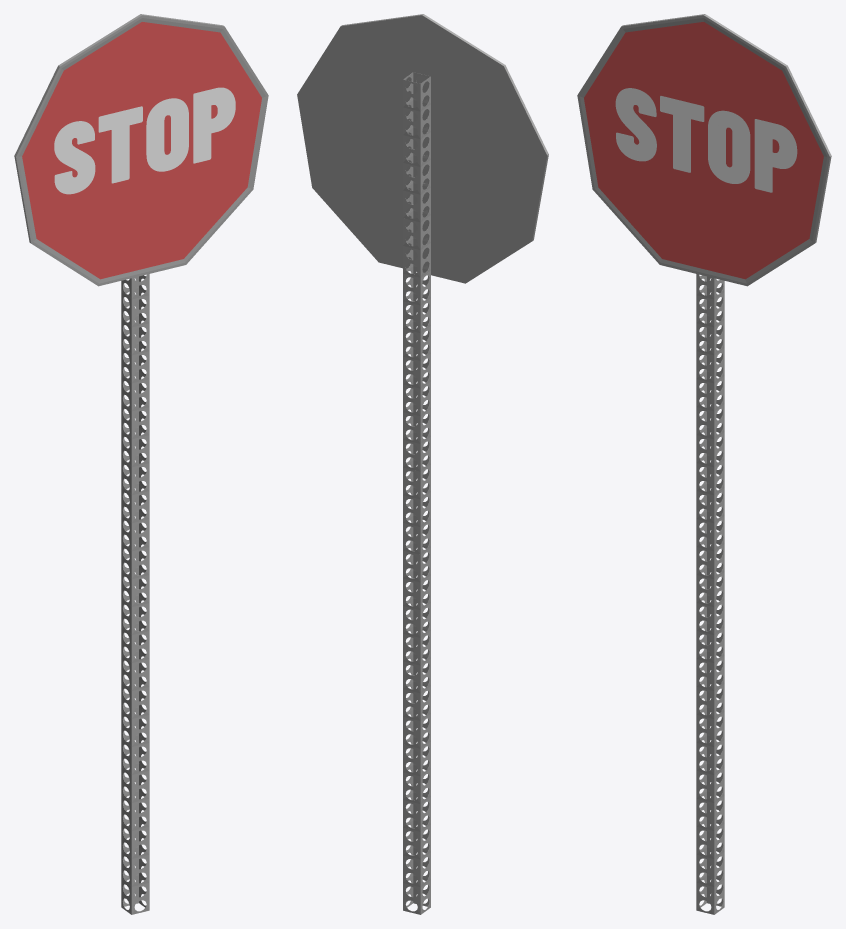
File: stopsign.fbx
The picture shows the model from 3 angles, left to right: view 1: azimuth 30°, elevation 25°; view 2: azimuth 150°, elevation 25°; view 3: azimuth 330°, elevation 25°; orthographic projection.
Visible parts, largest first — view 1: StopSign; view 2: StopSign; view 3: StopSign.
Part boxes in pixels (bbox=[...]): StopSign: bbox=[14, 14, 268, 914]; StopSign: bbox=[297, 14, 548, 914]; StopSign: bbox=[577, 14, 831, 914].
Bounding box in the file's own units: 2.48 × 8.44 × 0.2068.
